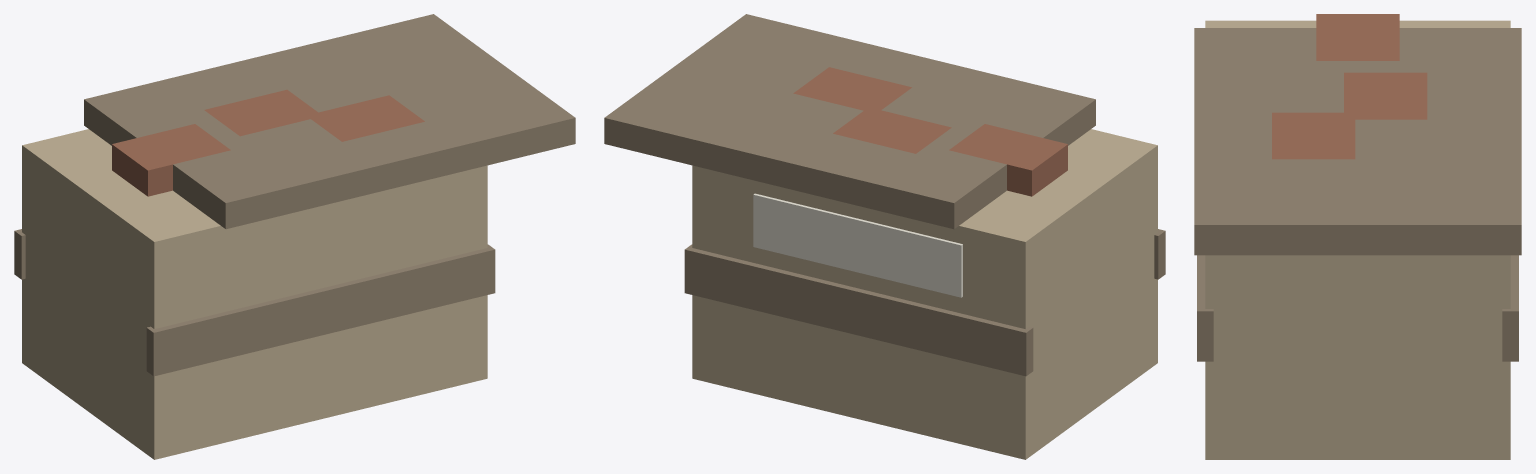
File: evidence-crate.glb
The picture shows the model from 3 angles, left to right: view 1: azimuth 30°, elevation 25°; view 2: azimuth 150°, elevation 25°; view 3: azimuth 270°, elevation 25°; orthographic projection. The views are drawn at different scales.
Visible parts, largest first — view 1: GEO-crate-body, GEO-crate-lid, GEO-crate-batten-b, GEO-crate-dates-1, GEO-crate-dates-2, GEO-crate-dates-3, GEO-crate-batten-f; view 2: GEO-crate-body, GEO-crate-lid, GEO-crate-batten-f, GEO-crate-stripe, GEO-crate-dates-1, GEO-crate-dates-2, GEO-crate-dates-3, GEO-crate-batten-b; view 3: GEO-crate-lid, GEO-crate-body, GEO-crate-dates-3, GEO-crate-dates-2, GEO-crate-dates-1, GEO-crate-batten-f, GEO-crate-batten-b.
Boxes of the visible parts, x1,y1,x2,y2 form: GEO-crate-body: (22,129,487,459); GEO-crate-lid: (84,14,575,229); GEO-crate-batten-b: (146,244,495,376); GEO-crate-dates-1: (112,124,230,196); GEO-crate-dates-2: (204,89,322,136); GEO-crate-dates-3: (306,95,424,141); GEO-crate-batten-f: (14,229,25,279); GEO-crate-body: (692,129,1157,459); GEO-crate-lid: (604,14,1095,229); GEO-crate-batten-f: (684,244,1033,376); GEO-crate-stripe: (753,193,962,297); GEO-crate-dates-1: (949,124,1067,196); GEO-crate-dates-2: (833,107,951,153); GEO-crate-dates-3: (793,67,911,110); GEO-crate-batten-b: (1154,229,1165,279); GEO-crate-lid: (1194,28,1521,255); GEO-crate-body: (1205,20,1510,459); GEO-crate-dates-3: (1272,112,1355,159); GEO-crate-dates-2: (1344,72,1427,119); GEO-crate-dates-1: (1316,14,1399,60); GEO-crate-batten-f: (1502,255,1518,361); GEO-crate-batten-b: (1197,255,1213,361).
Size of the model in its own units: 1.01 by 0.56 by 0.59.
